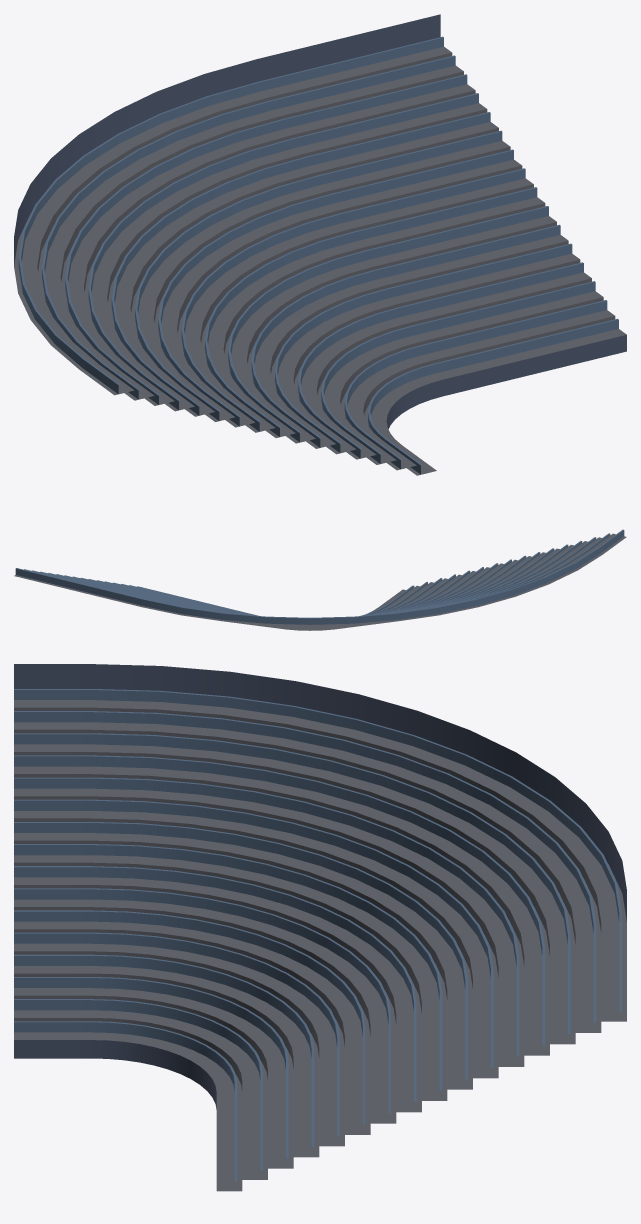
File: SM_BowlLow1.glb
The picture shows the model from 3 angles, top to bottom: view 1: azimuth 30°, elevation 25°; view 2: azimuth 150°, elevation 25°; view 3: azimuth 270°, elevation 25°; orthographic projection. The views are drawn at different scales.
Parts seen in each view (by area): view 1: SM_BowlLow1; view 2: SM_BowlLow1; view 3: SM_BowlLow1.
Part boxes in pixels (x1,y1,x2,y2): SM_BowlLow1: (14, 14, 626, 475); SM_BowlLow1: (14, 529, 626, 630); SM_BowlLow1: (14, 664, 626, 1191).
Size of the model in its own units: 23.38 by 7.42 by 18.65.
